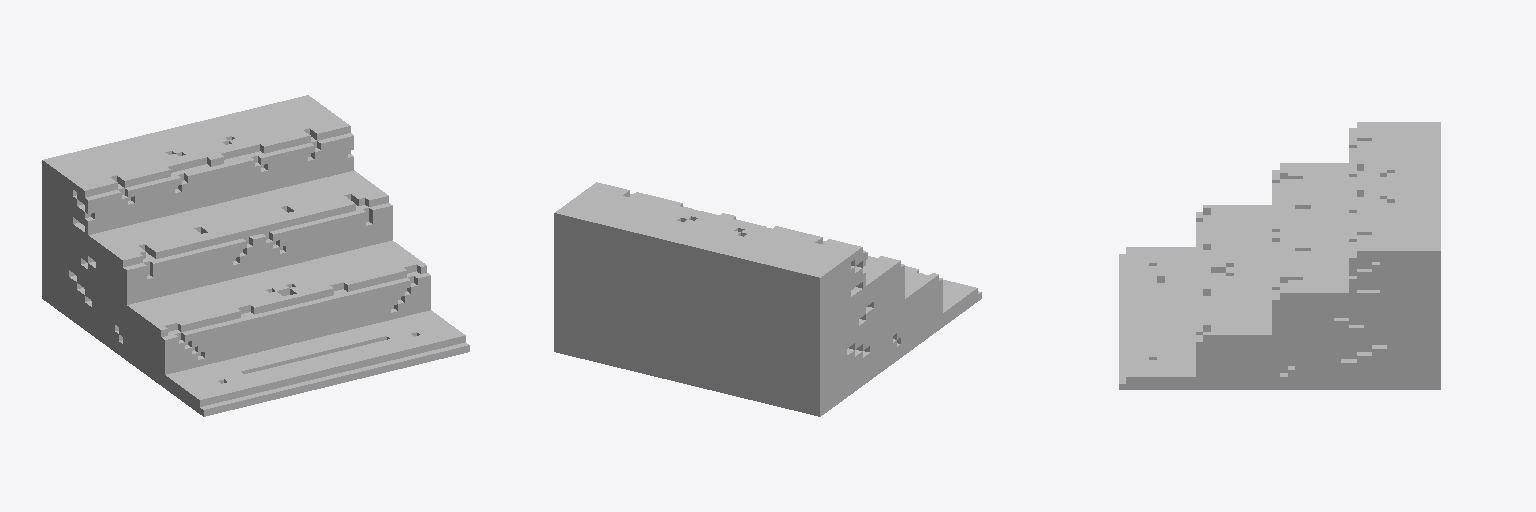
File: Stairs 1.obj
The picture shows the model from 3 angles: view 1: azimuth 30°, elevation 25°; view 2: azimuth 150°, elevation 25°; view 3: azimuth 270°, elevation 25°; orthographic projection.
Parts seen in each view (by area): view 1: object 1; view 2: object 1; view 3: object 1.
Boxes of the visible parts, x1=… form: object 1: x1=42, y1=95, x2=469, y2=416; object 1: x1=554, y1=182, x2=981, y2=416; object 1: x1=1119, y1=122, x2=1440, y2=389.
Bounding box in the file's own units: 4 × 2 × 4.2.